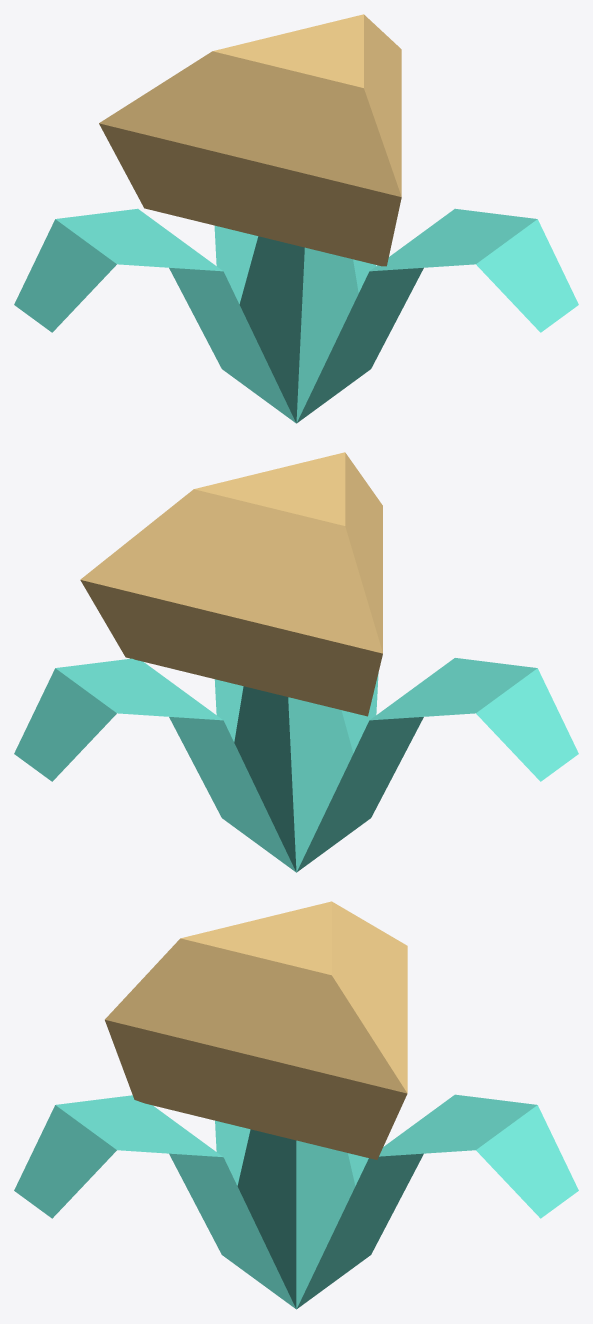
File: flower_yellowB.glb
3 renders of one model, top to bottom at view 1: azimuth 30°, elevation 25°; view 2: azimuth 150°, elevation 25°; view 3: azimuth 270°, elevation 25°, orthographic.
Visible parts, largest first — view 1: flower_yellowB; view 2: flower_yellowB; view 3: flower_yellowB.
Part boxes in pixels (<box>): flower_yellowB: <box>14,14,578,423</box>; flower_yellowB: <box>14,452,578,872</box>; flower_yellowB: <box>14,901,578,1309</box>.
Size of the model in its own units: 0.2073 by 0.1585 by 0.2392.
Materials: 1 (1 with a texture image).
